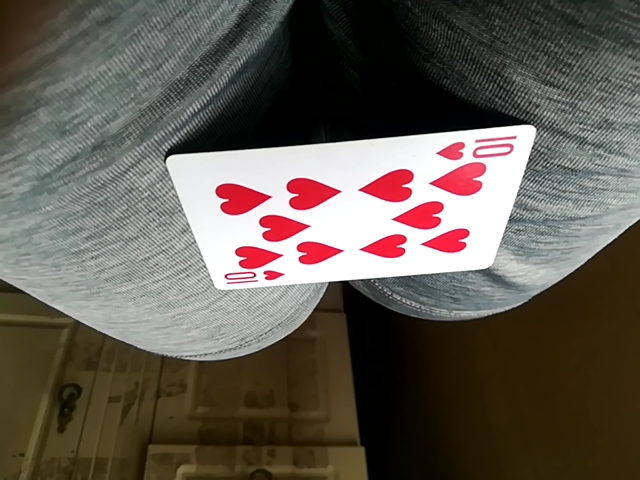hx 10: (170, 127, 537, 287)
